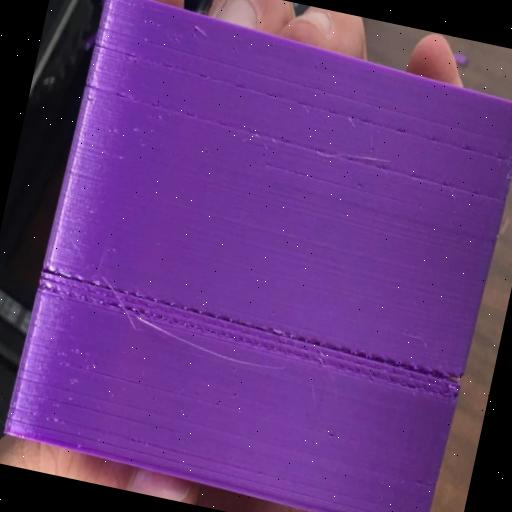cracks: (30, 262, 469, 406)
